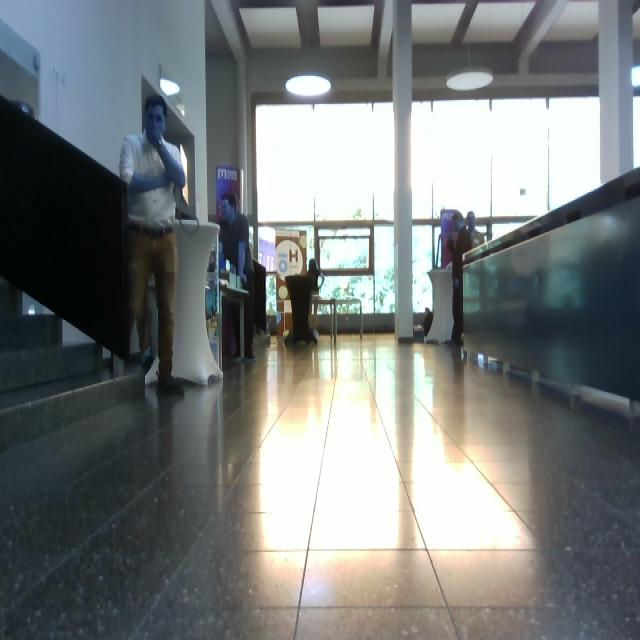light bulb: (446, 68, 494, 92), (286, 74, 332, 97), (13, 100, 35, 118), (160, 78, 180, 97), (631, 65, 640, 88)
person: (119, 94, 188, 396), (219, 192, 257, 362), (444, 212, 473, 346)
pillar: (392, 1, 414, 341)
table: (308, 294, 366, 348)
tiled floor: (1, 331, 639, 639)
window: (255, 100, 396, 326)
